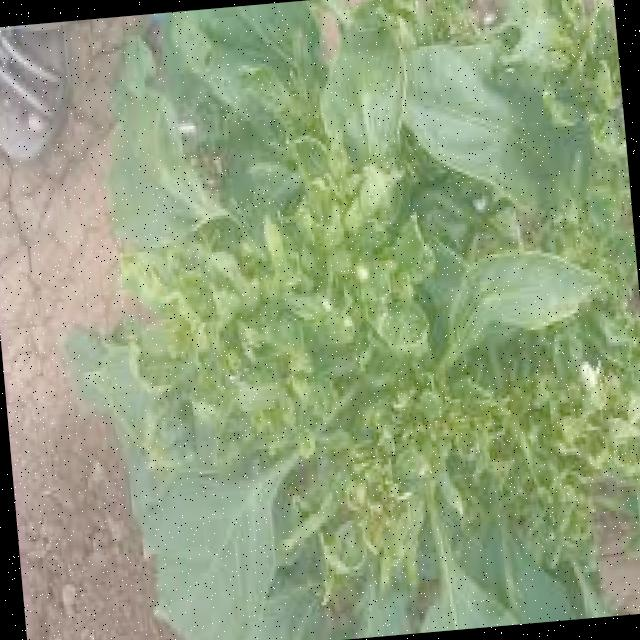leaf curl: (272, 0, 639, 377), (101, 362, 586, 640)
